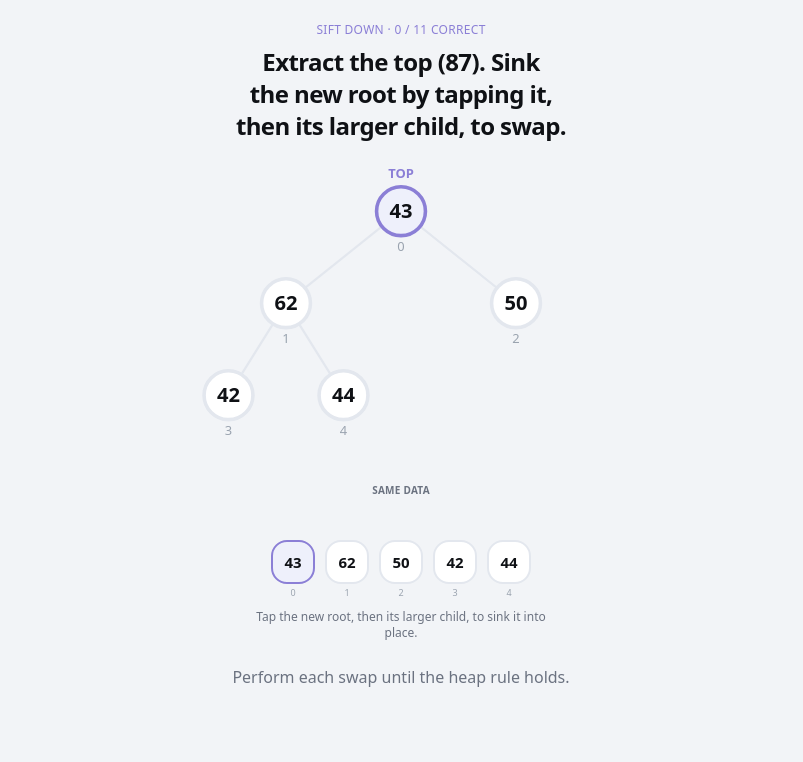
do-the-sift (sift-down, reduced motion skips the hand-off) › opens interactive at the post-hand-off heap and sinks the new root
The image size is (803, 762).
What coordinates should you click on to do the following:
click the button "43"
I would click on:
 (293, 562)
Its box is [271, 540, 315, 584].
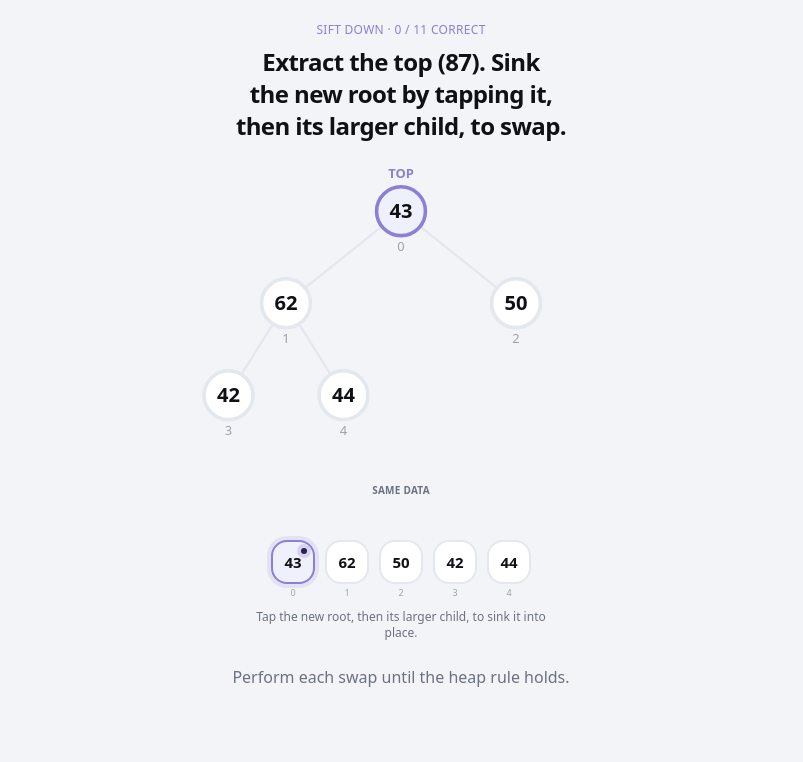
What coordinates should you click on to do the following:
click the button with test id "heap-cell"
I would click on:
 (347, 562)
Its box is [325, 540, 369, 584].
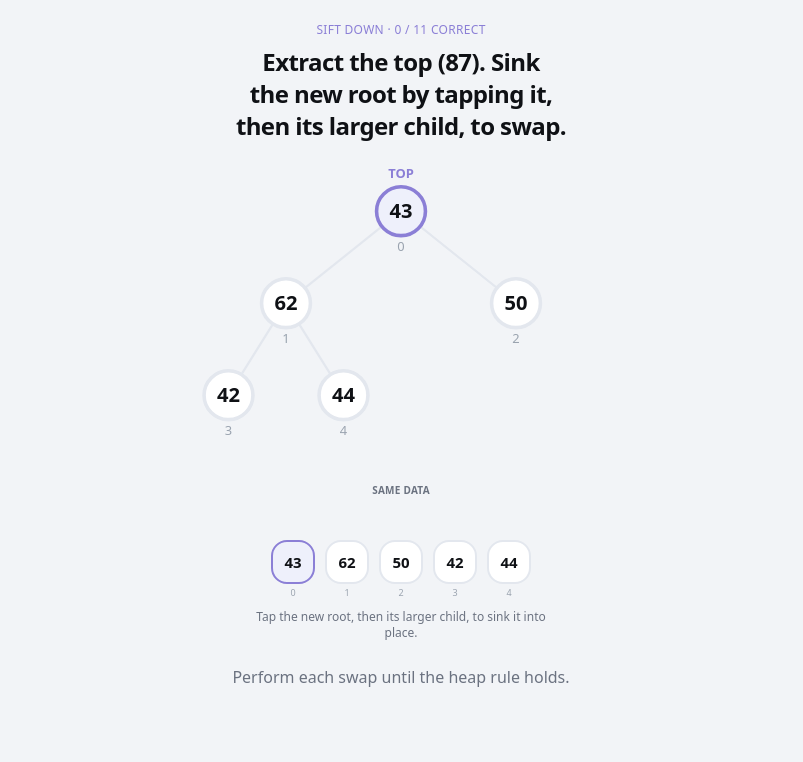
What coordinates should you click on to do the following:
click the button "43"
I would click on:
 (293, 562)
Its box is [271, 540, 315, 584].
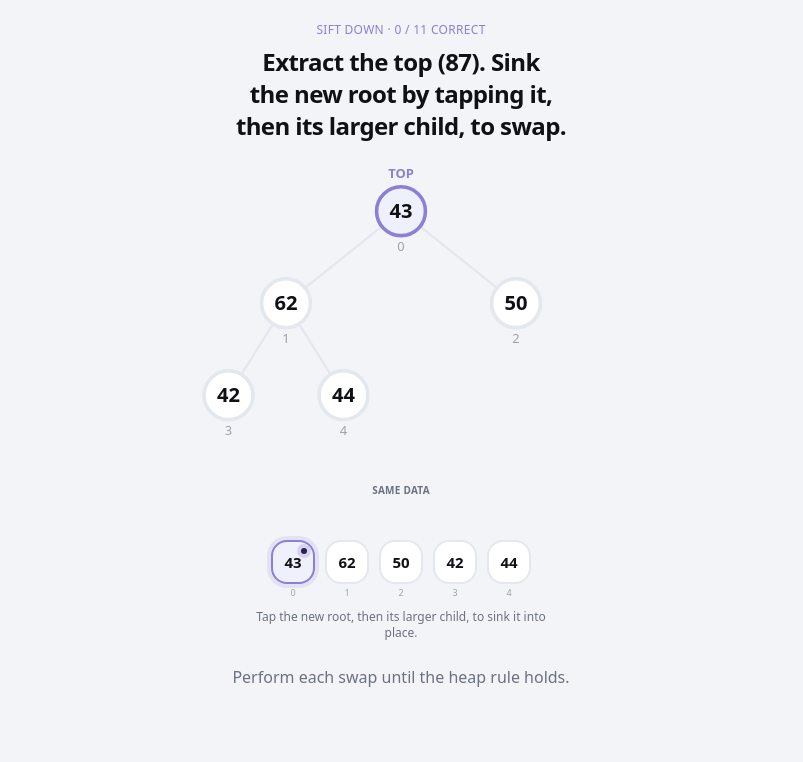
What coordinates should you click on to do the following:
click the button with test id "heap-cell"
I would click on:
 (509, 562)
Its box is [487, 540, 531, 584].
(page scrolled)
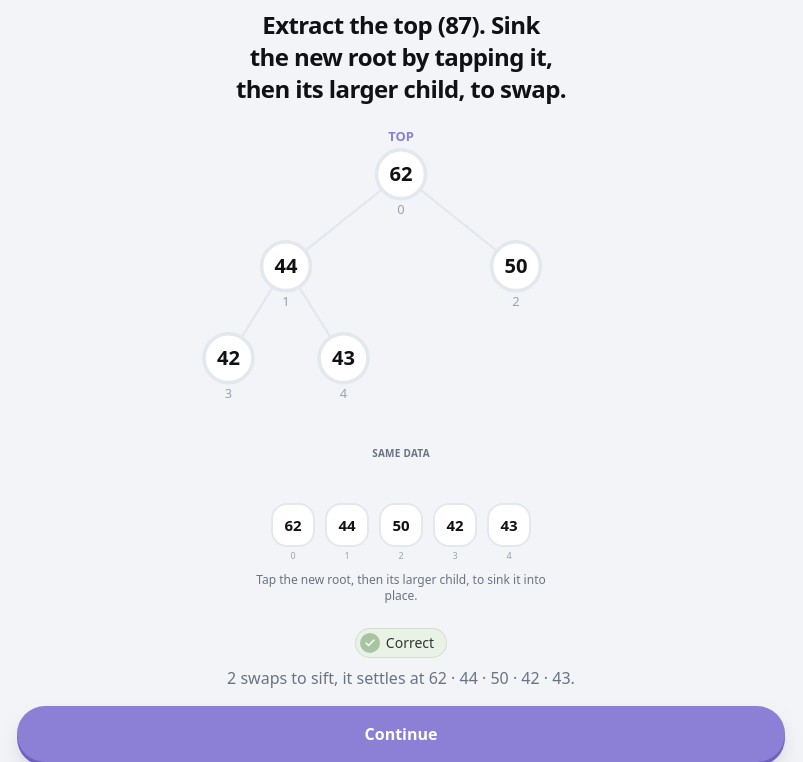
Expected: the button "Continue" is shown, [17, 706, 785, 761]
